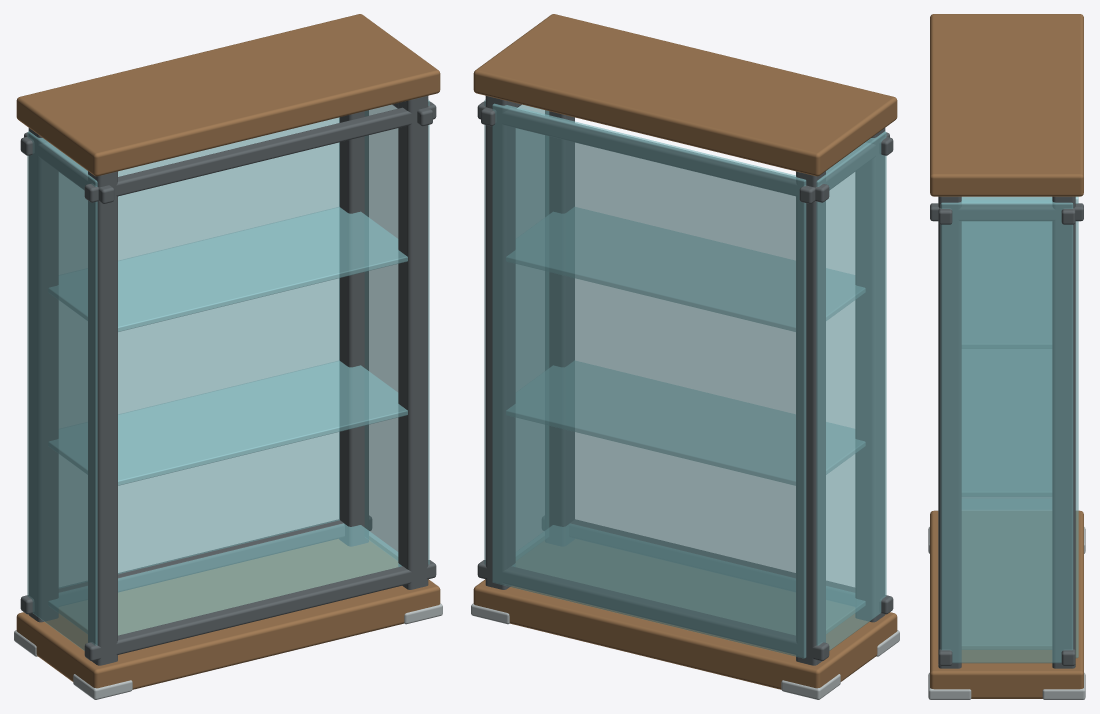
File: prlVitrine.glb
3 renders of one model, left to right at view 1: azimuth 30°, elevation 25°; view 2: azimuth 150°, elevation 25°; view 3: azimuth 270°, elevation 25°, orthographic. The views are drawn at different scales.
Parts seen in each view (by area): view 1: display-cabinet; view 2: display-cabinet; view 3: display-cabinet.
Boxes of the visible parts, <box> form: display-cabinet: <box>14,14,442,699</box>; display-cabinet: <box>471,14,899,699</box>; display-cabinet: <box>928,14,1085,699</box>.
Size of the model in its own units: 1.26 by 1.88 by 0.5099.
